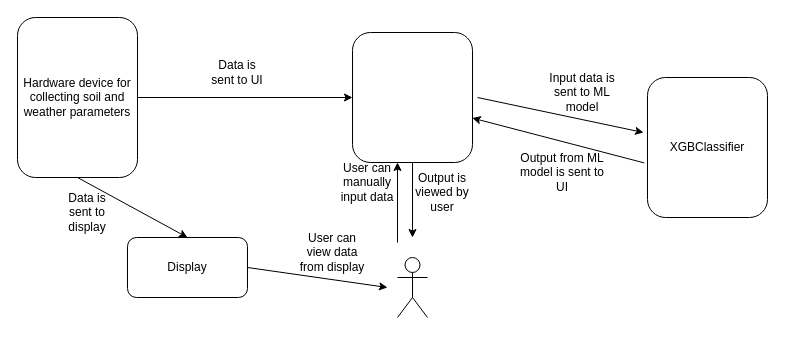
Image size: 785x356. Some labels were removed from this diagram. Here are the shapes that lost their labels. From the top down, the box of each, then its label:
(352, 32, 472, 162): User Interface
(396, 256, 428, 318): User
